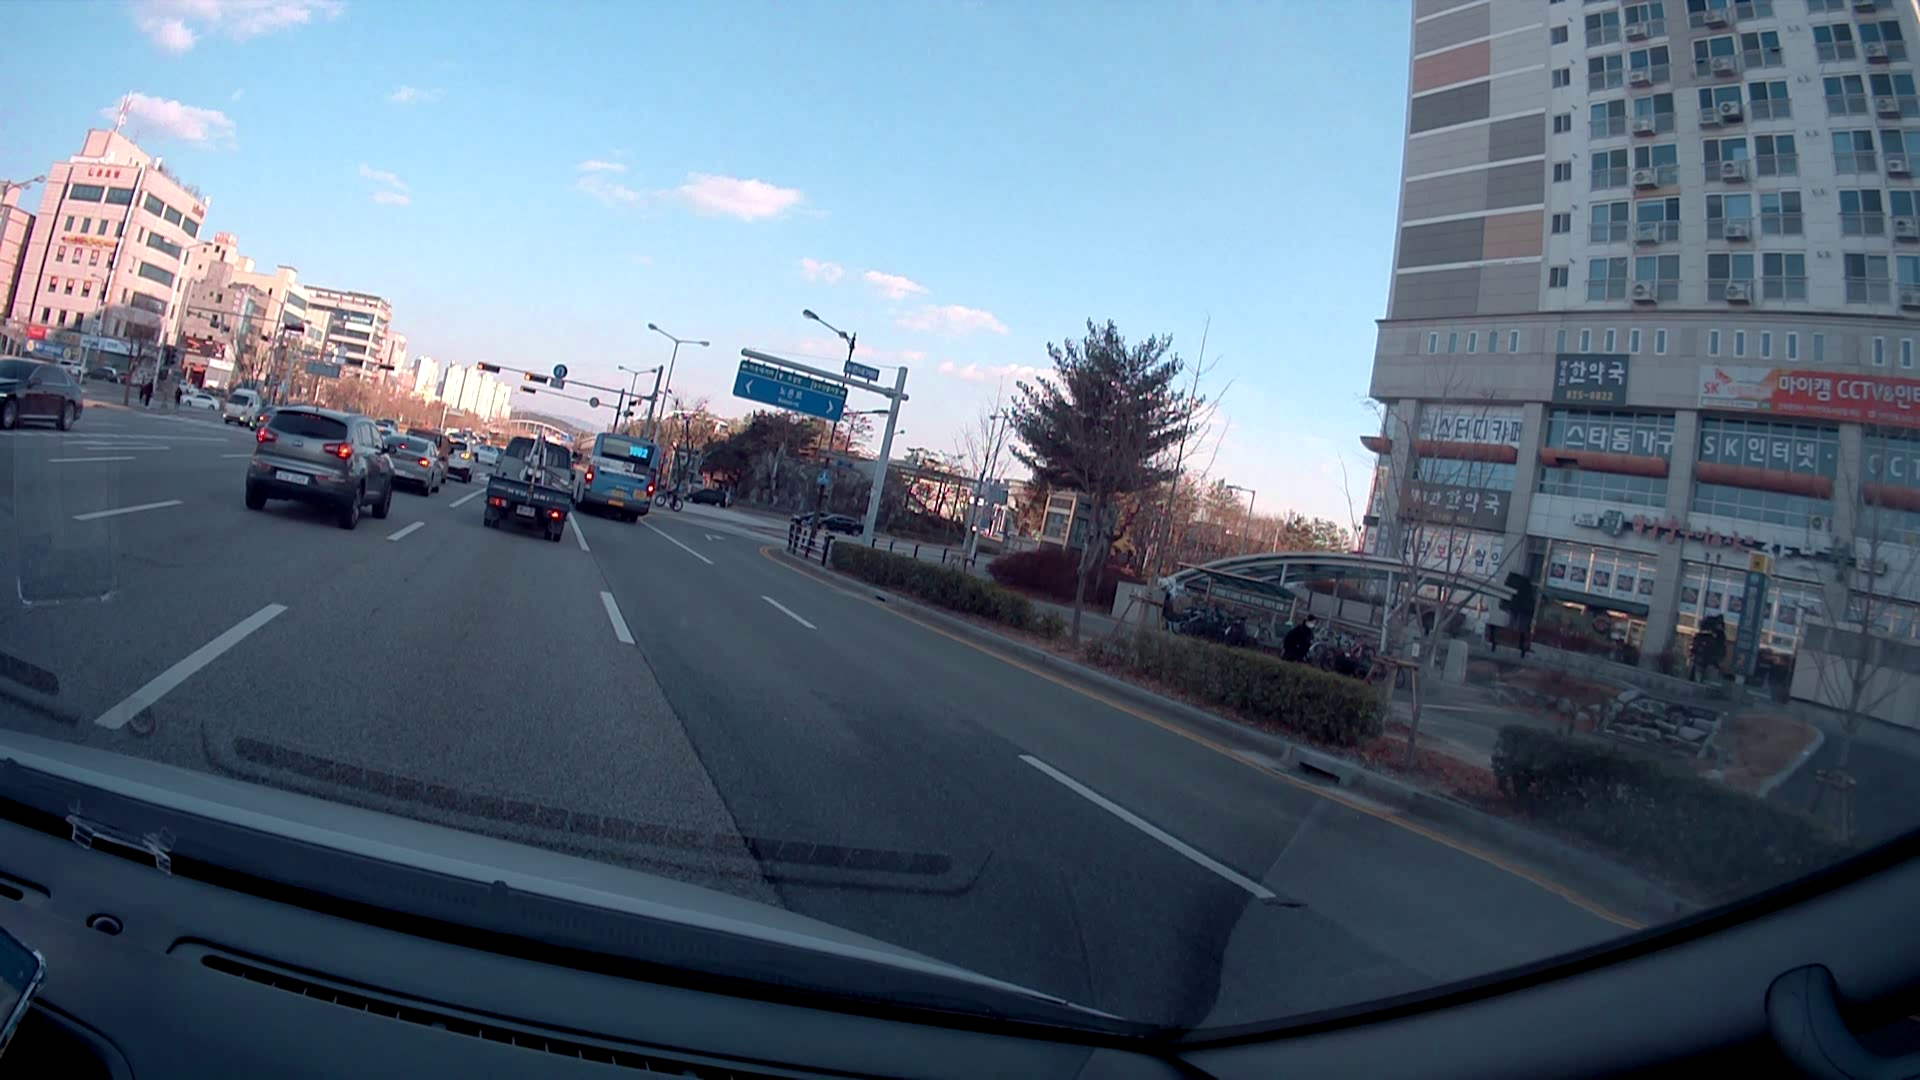trafficLight: (471, 359, 549, 385)
